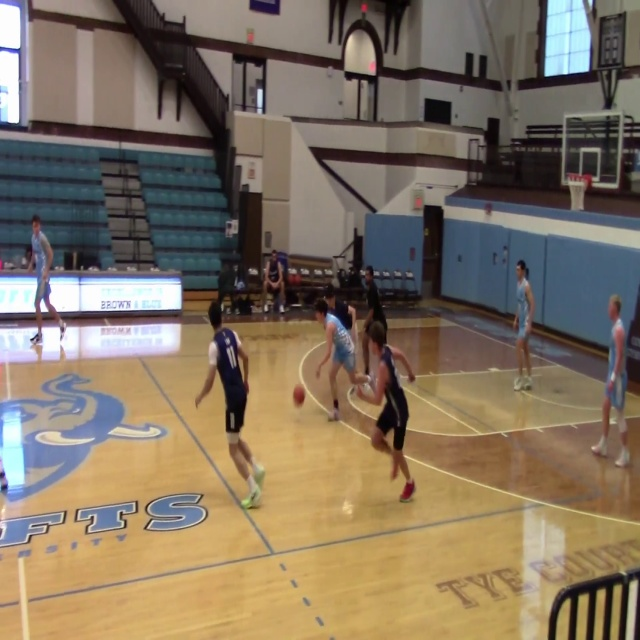Basketball: (357, 382, 375, 399), (293, 385, 305, 405), (354, 373, 370, 385)
